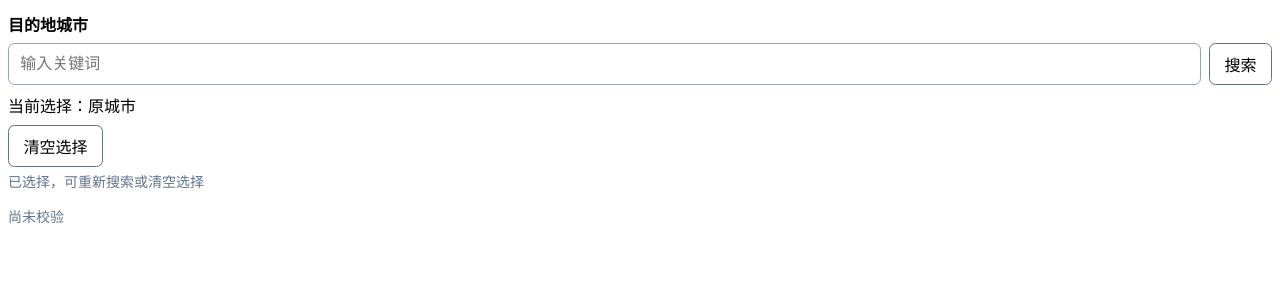
Test: reports technical failures without clearing the selected option or publishing a business Issue
Type "bad" into the search field at (605, 64), box [8, 43, 1201, 85]
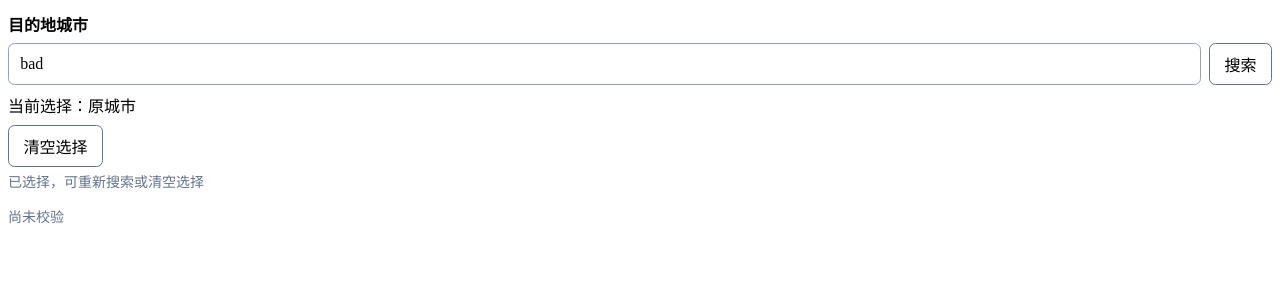
Click the button "搜索" at (1241, 64), box [1209, 43, 1272, 85]
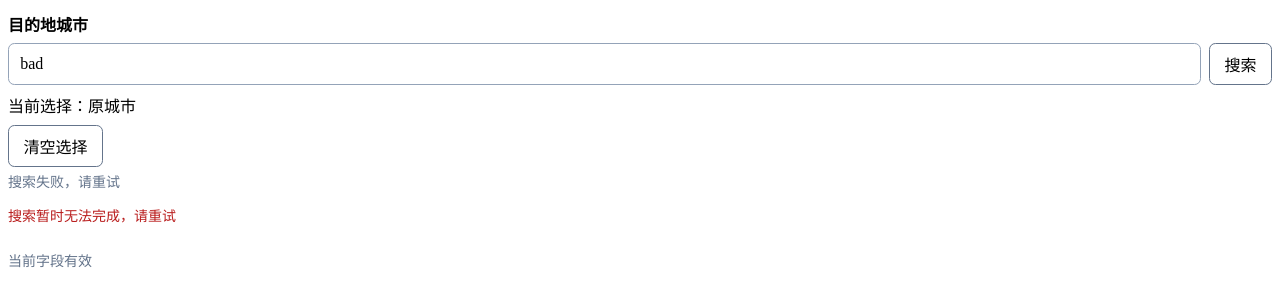
Expected: the message "搜索暂时无法完成，请重试" does not show "private detail", [8, 209, 176, 224]
Expected: the message "搜索暂时无法完成，请重试" is shown, [8, 209, 176, 224]
Replace the text in the search field with "invalid" at (605, 64), box [8, 43, 1201, 85]
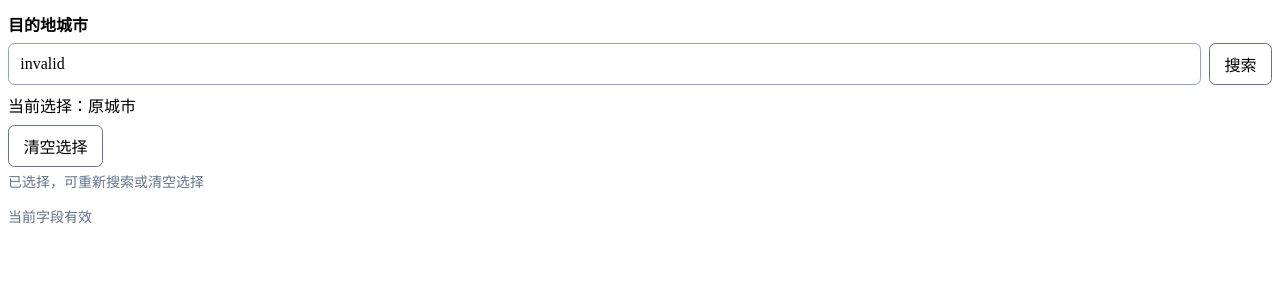
Click the button "搜索" at (1241, 64), box [1209, 43, 1272, 85]
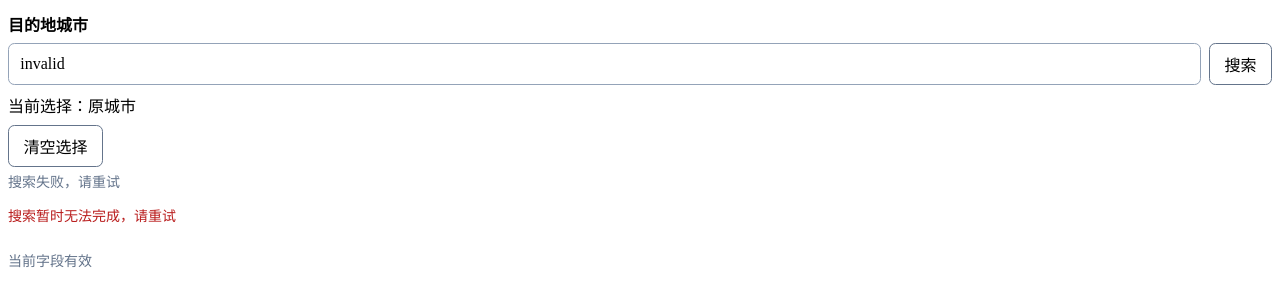
Expected: the message "搜索暂时无法完成，请重试" is shown, [8, 209, 176, 224]
